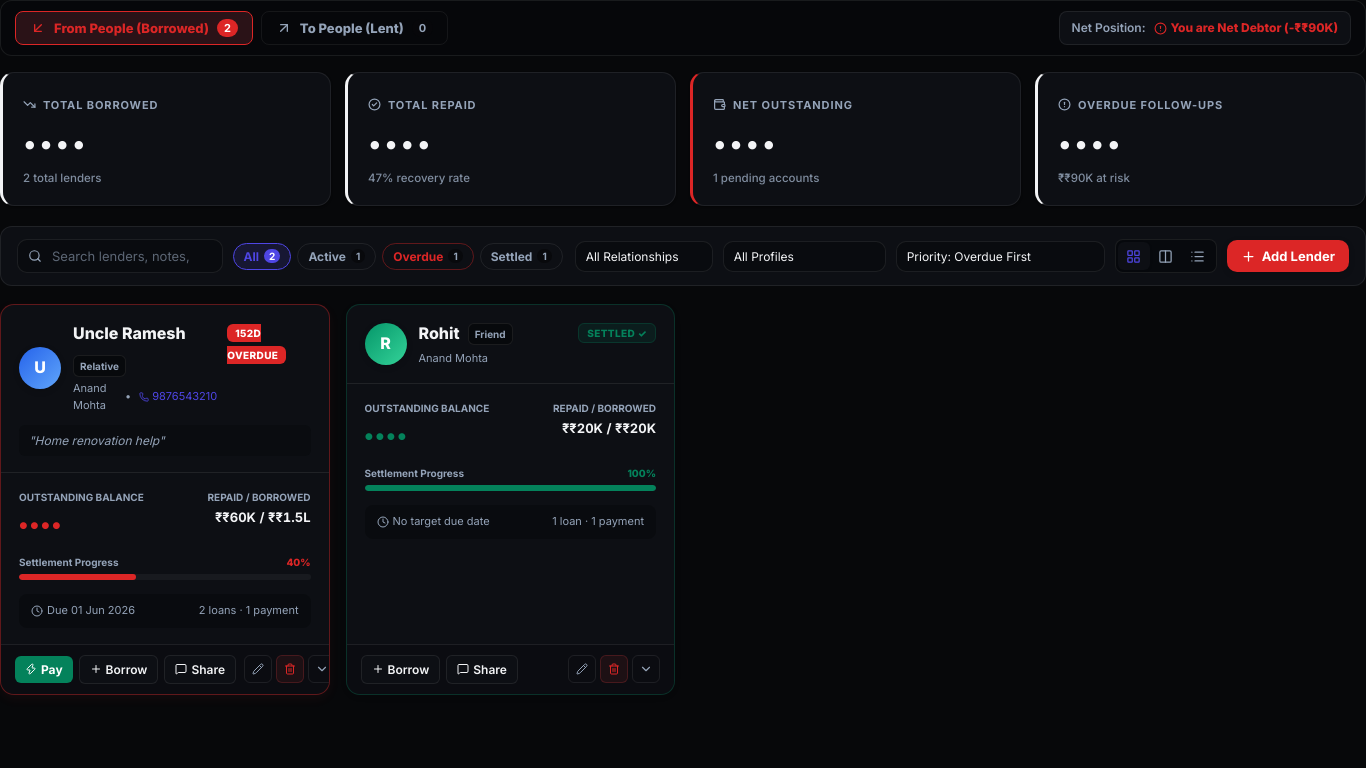
Test case: Informal Loans Redesign (From People & To People) › InformalLoanSection (From People / Borrowed Mode) › opens Add Lender modal when CTA is clicked
Click the button "Add Lender". click: click(1288, 256)
box: [1227,240,1349,272]
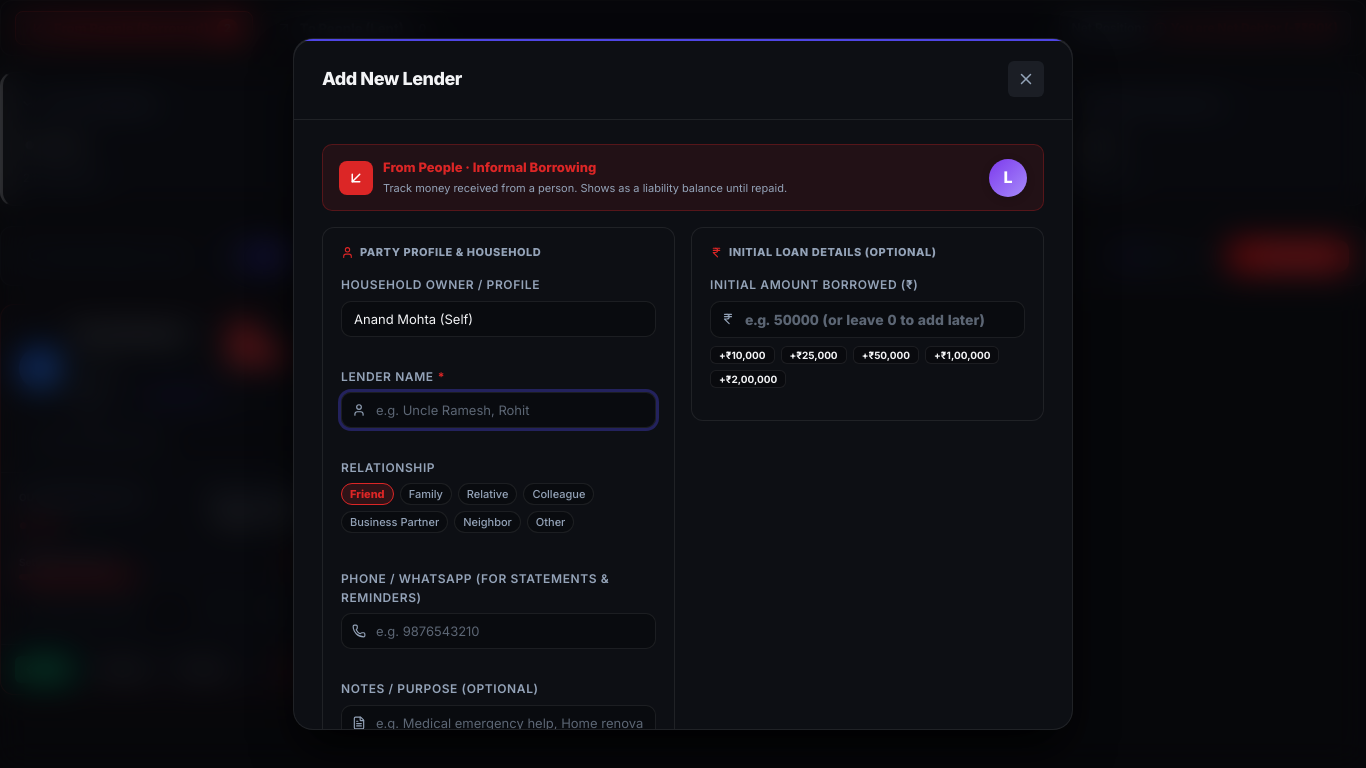
Expected: the heading "Add New Lender" is shown, [322,69,462,90]
